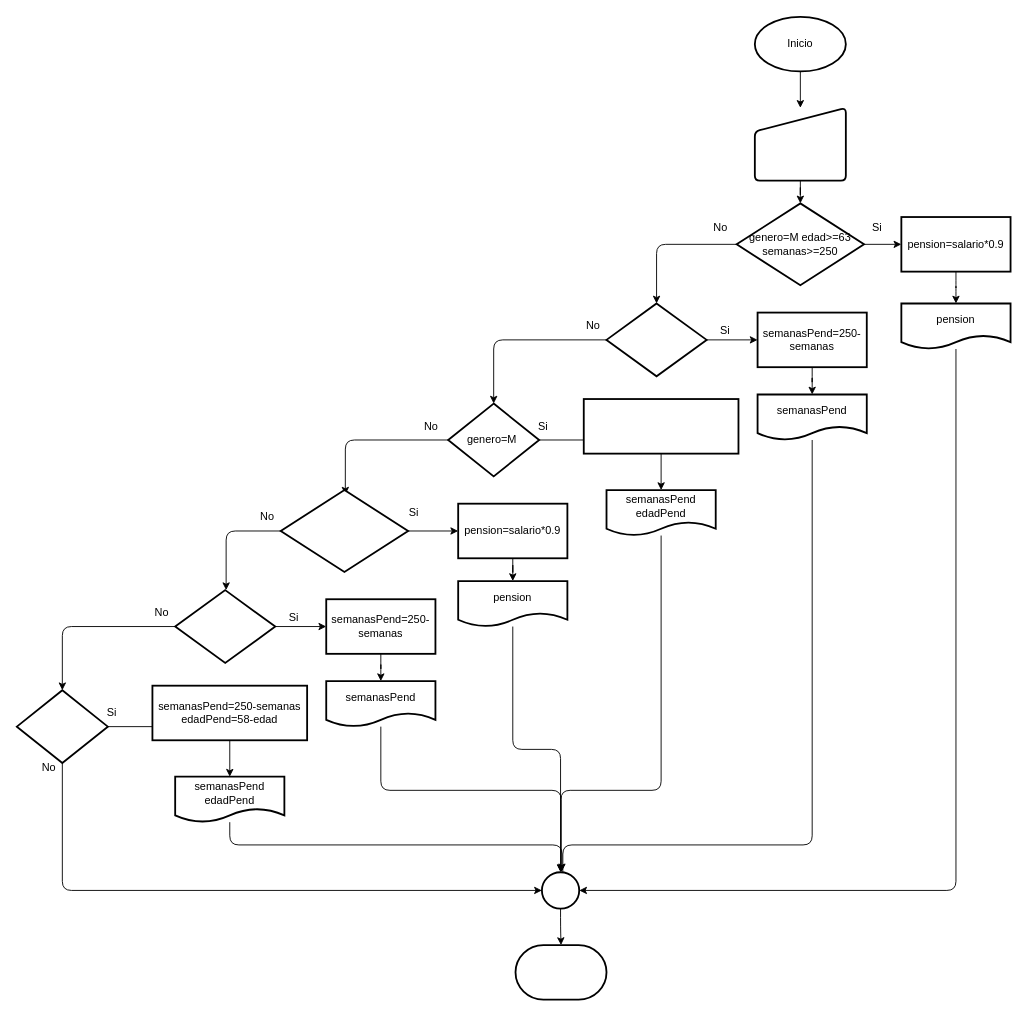
Some shapes in this 1026 by 1016 pixel diagram are drawn without their labels. Here are the shapes that lost their labels. From the top down, the box of each, then its label:
(753, 106, 846, 181): edad, semanas, salario, genero
(605, 302, 707, 377): genero=M edad>=63
(582, 398, 739, 454): semanasPend=250-semanas edadPend=63-edad
(279, 489, 409, 572): genero=F edad>=58 semanas>=250
(174, 589, 276, 663): genero=F edad>=58
(15, 689, 108, 763): genero=F
(514, 944, 607, 1000): Fin
